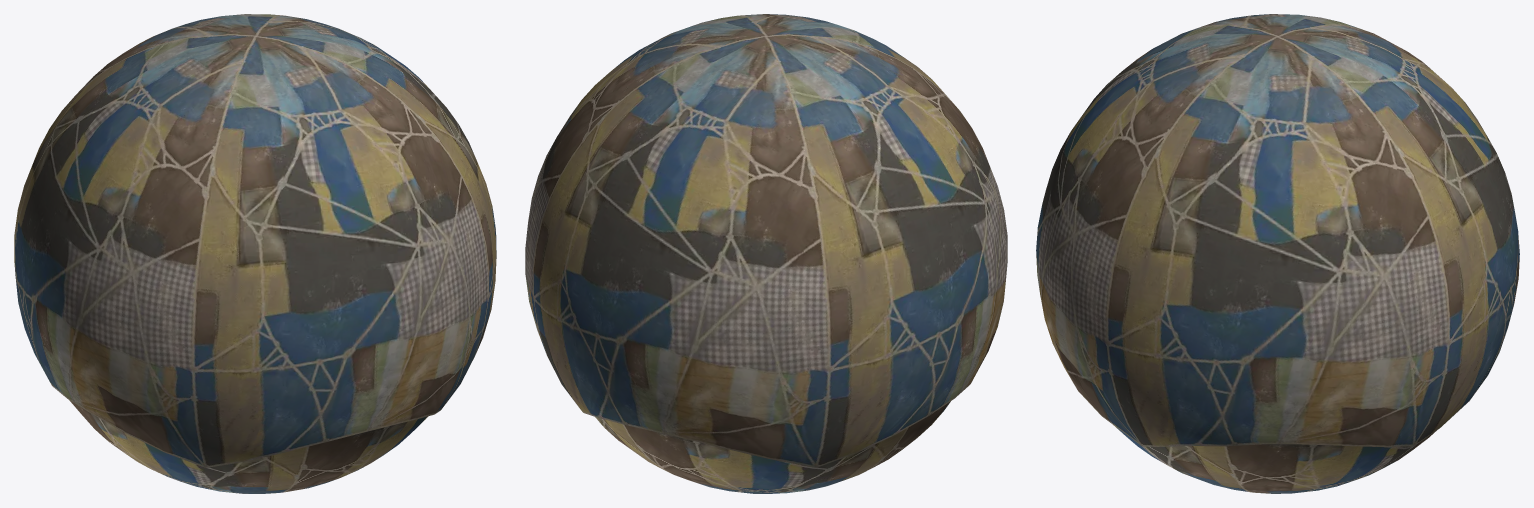
Rendered from ball.entity.glb.
3 renders of one model, left to right at view 1: azimuth 30°, elevation 25°; view 2: azimuth 150°, elevation 25°; view 3: azimuth 270°, elevation 25°, orthographic.
Parts seen in each view (by area): view 1: LOD0; view 2: LOD0; view 3: LOD0.
Boxes of the visible parts, x1,y1,x2,y2 form: LOD0: (14,14,496,493); LOD0: (525,14,1007,493); LOD0: (1036,14,1519,493).
Size of the model in its own units: 2.49 by 2.48 by 2.49.
Materials: 1 (1 with a texture image).
